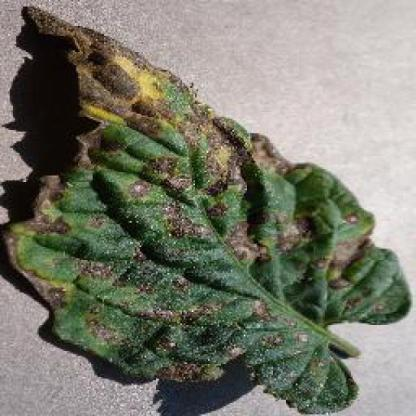Tomato_Blight: (1, 5, 413, 412)
